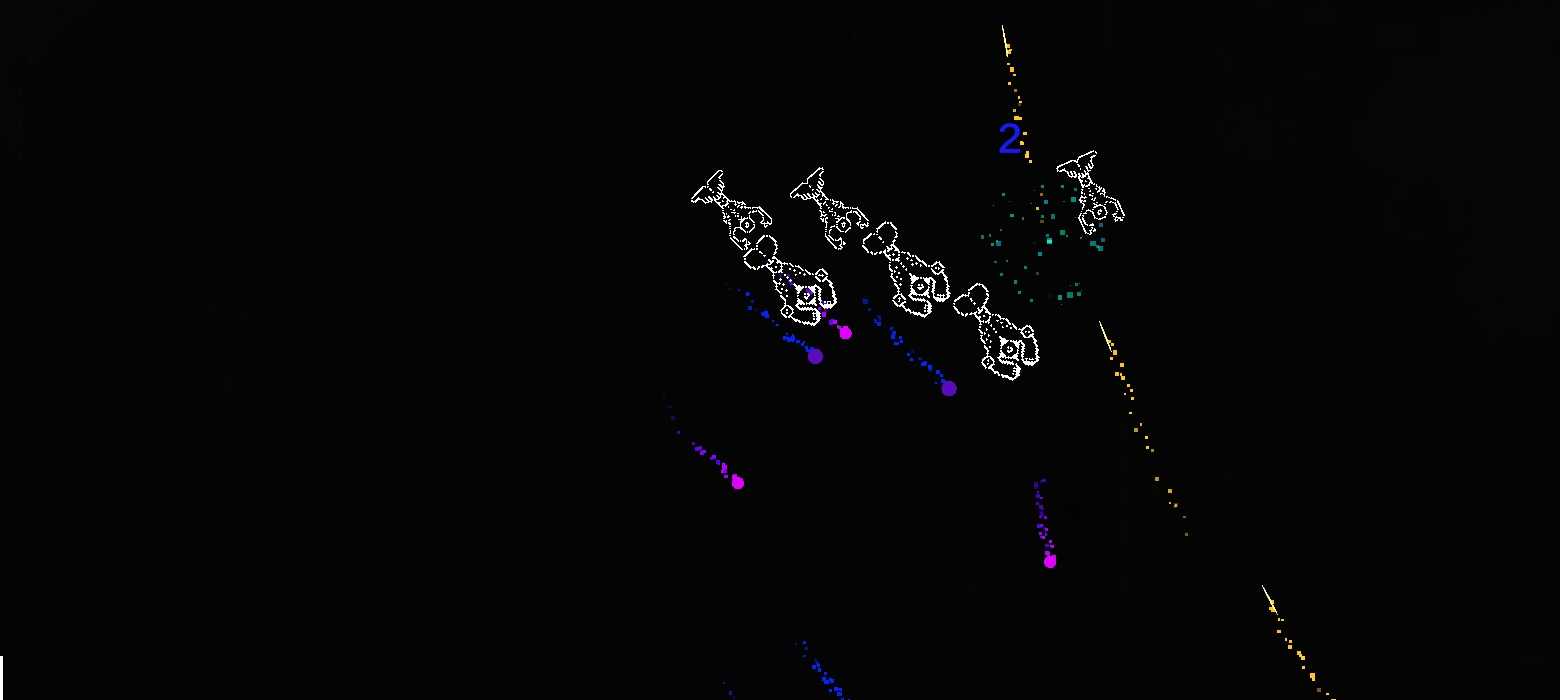enemy: (861, 221, 950, 319), (743, 235, 837, 326), (952, 283, 1039, 381), (691, 169, 773, 251), (789, 167, 868, 250), (1055, 149, 1125, 236)
